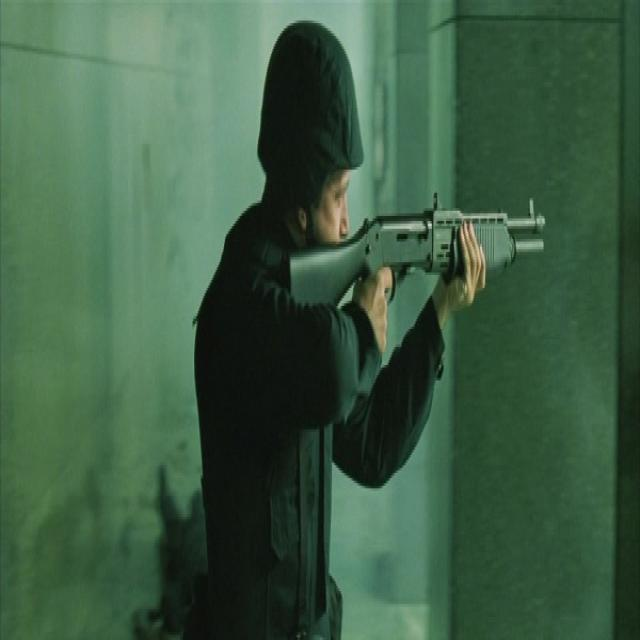rifle: (281, 189, 555, 334)
